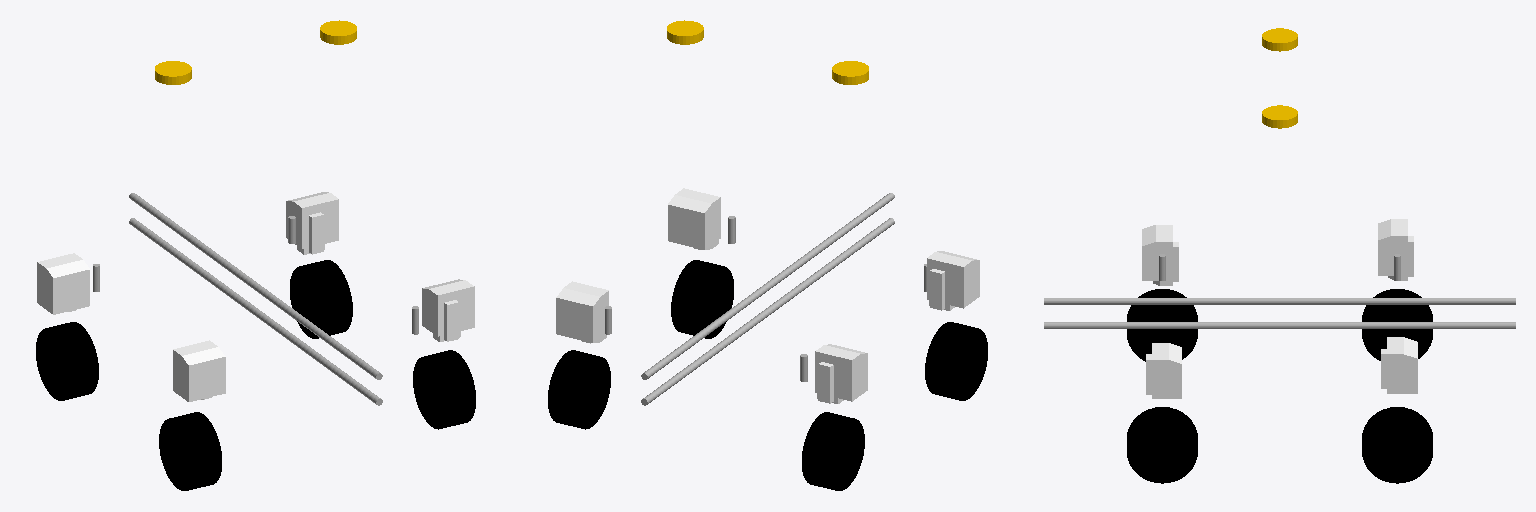
--- What the picture shows (computed from the rendered views, not written in the file) ---
The picture shows the robot from 3 angles, left to right: view 1: azimuth 30°, elevation 25°; view 2: azimuth 150°, elevation 25°; view 3: azimuth 270°, elevation 25°; orthographic projection.
Model thorvald_ii with 36 links and 35 joints (8 continuous, 27 fixed), rooted at /base_link, posed all joints at 0.
Visible links, largest first — view 1: /wheel3_link, /wheel1_link, /wheel0_link, /wheel2_link, /top1, /top3, /top0, /top2, /pipe0_1, /pipe0_2, /pipe1_1, /pipe1_2 (+2 smaller); view 2: /wheel0_link, /wheel2_link, /wheel3_link, /wheel1_link, /top1, /top3, /top0, /top2, /pipe1_1, /pipe1_2, /pipe0_1, /pipe0_2 (+2 smaller); view 3: /wheel1_link, /wheel2_link, /wheel0_link, /wheel3_link, /top2, /top1, /top0, /top3, /pipe0_1, /pipe0_2, /pipe1_1, /pipe1_2 (+2 smaller).
Link boxes in pixels (x1,y1,x2,y2): /wheel3_link: (36,322,98,400); /wheel1_link: (413,350,475,429); /wheel0_link: (159,412,221,490); /wheel2_link: (290,260,352,338); /top1: (422,279,474,341); /top3: (37,253,89,314); /top0: (173,340,225,401); /top2: (286,192,338,254); /pipe0_1: (253,308,382,405); /pipe0_2: (253,283,382,379); /pipe1_1: (129,218,256,313); /pipe1_2: (129,193,256,287); /wheel0_link: (925,322,987,400); /wheel2_link: (548,350,610,429); /wheel3_link: (802,412,864,490); /wheel1_link: (671,260,733,338); /top1: (668,188,720,249); /top3: (815,344,867,403); /top0: (927,251,979,310); /top2: (556,281,608,343); /pipe1_1: (641,308,770,405); /pipe1_2: (641,283,770,379); /pipe0_1: (766,218,894,313); /pipe0_2: (767,193,894,287); /wheel1_link: (1127,407,1197,483); /wheel2_link: (1362,407,1432,483); /wheel0_link: (1127,289,1197,361); /wheel3_link: (1362,289,1432,360); /top2: (1381,337,1417,393); /top1: (1146,343,1181,398); /top0: (1142,225,1178,285); /top3: (1378,219,1413,280); /pipe0_1: (1044,322,1279,328); /pipe0_2: (1044,298,1279,304); /pipe1_1: (1280,322,1515,328); /pipe1_2: (1280,298,1515,304).
Size in the robot's own frame: 1.86 by 2.64 by 2.12 metres.
4 mesh visuals loaded from 8 distinct referenced files (2 binary STL); not drawn: 17 (reference not matched to a file when rendering).

robot.urdf — thorvald_ii:
<?xml version="1.0" encoding="utf-8"?>

<robot name="thorvald_ii">
  <!-- <gazebo>
    <plugin filename="libthorvald_gazebo_plugins_synch.so" name="_thorvald_gazebo_plugins">
      <alwaysOn>true</alwaysOn>
      <updateRate>20</updateRate>
      <robotNamespace></robotNamespace>
      <commandTopic>base_state</commandTopic>
      <odometryTopic>odometry/gazebo</odometryTopic>
      <odometryFrame>/base_link</odometryFrame>
      <robotBaseFrame>/base_link</robotBaseFrame>
      <steering0>/steering0</steering0>
      <steering1>/steering1</steering1>
      <steering2>/steering2</steering2>
      <steering3>/steering3</steering3>
      <steering4>/steering4</steering4>
      <steering5>/steering5</steering5>
      <steering6>/steering6</steering6>
      <steering7>/steering7</steering7>
      <steering8>/steering8</steering8>
      <steering9>/steering9</steering9>
      <steering10>/steering10</steering10>
      <wheel0>/wheel0</wheel0>
      <wheel1>/wheel1</wheel1>
      <wheel2>/wheel2</wheel2>
      <wheel3>/wheel3</wheel3>
      <wheel4>/wheel4</wheel4>
      <wheel5>/wheel5</wheel5>
      <wheel6>/wheel6</wheel6>
      <wheel7>/wheel7</wheel7>
      <wheel8>/wheel8</wheel8>
      <wheel9>/wheel9</wheel9>
      <wheel10>/wheel10</wheel10>
    </plugin>
  </gazebo> -->
  <!--
    <alwaysOn>true</alwaysOn>
    <robotNamespace>thorvald_ii</robotNamespace>
    <steering2>steering2</steering2>
    <steering1>steering1</steering1>
    <steering3>steering3</steering3>
    <steering0>steering0</steering0>
    <publishOdometryMsg>true</publishOdometryMsg>
    <publishOdometryTf>true</publishOdometryTf>
    <robotBaseFrame>base_link</robotBaseFrame>
    <commandTopic>joint_commands</commandTopic>
    <odometryTopic>odom</odometryTopic>
    <odometryFrame>odom</odometryFrame>
    <updateRate>100.0</updateRate>
    <platform_width>0.570</platform_width>
    <wheel_radius>0.400</wheel_radius>
      <torque>5.0</torque>
    </plugin>
  </gazebo> -->
  <!-- MATERIAL DEFINITIONS -->
  <material name="white">
    <color rgba="1 1 1 1"/>
  </material>
  <material name="black">
    <color rgba="0 0 0 1"/>
  </material>
  <material name="red">
    <color rgba="1 0 0 1"/>
  </material>
  <material name="green">
    <color rgba="0 1 0 1"/>
  </material>
  <material name="alu">
    <color rgba="0.75 0.75 0.75 1"/>
  </material>
  <!-- CREATE ROBOT -->
  <!-- Create base link -->
  <link name="/base_link"/>
  <link name="/top0">
    <inertial>
      <mass value="10.21"/>
      <origin rpy="0 0 0" xyz="0 0 0"/>
      <inertia ixx="0.187252250833" ixy="0.0" ixz="0.0" iyy="0.209836770833" iyz="0.0" izz="0.119499541667"/>
    </inertial>
    <visual>
      <geometry>
        <mesh filename="package://loki_description/meshes/tower_modules/DUMMY-TOWER-M.stl"/>
        <box size="0.265 0.209 0.42"/>
      </geometry>
      <material name="white"/>
    </visual>
    <collision>
      <geometry>
        <mesh filename="package://loki_description/meshes/tower_modules/DUMMY-TOWER-M.stl"/>
        <box size="0.265 0.209 0.42"/>
      </geometry>
    </collision>
  </link>
  <joint name="/base_linktop0" type="fixed">
    <parent link="/base_link"/>
    <child link="/top0"/>
    <origin rpy="0 0 4.71238898038" xyz="-0.782 -0.658 0.65"/>
    <axis xyz="0 0 1"/>
  </joint>
  <link name="/leg0">
    <inertial>
      <mass value="15.64"/>
      <origin rpy="0 0 0" xyz="0 0 0"/>
      <inertia ixx="0.035581" ixy="0.0" ixz="0.0" iyy="0.035581" iyz="0.0" izz="0.012512"/>
    </inertial>
    <visual>
      <origin rpy="0 0 4.71238898038" xyz="0 0 0"/>
      <geometry>
        <mesh filename="package://loki_description/meshes/drive_modules/836745-5-DUMMY-RevA.stl"/>
        <cylinder length="-0.15" radius="0.04"/>
        <!--mesh filename="package://thorvald_base/meshes/top_chassis.dae"/-->
      </geometry>
      <material name="white"/>
    </visual>
    <collision>
      <origin rpy="0 0 4.71238898038" xyz="0 0 0"/>
      <geometry>
        <mesh filename="package://loki_description/meshes/drive_modules/836745-5-DUMMY-RevA.stl"/>
        <cylinder length="-0.15" radius="0.04"/>
      </geometry>
    </collision>
  </link>
  <joint name="/steering0" type="continuous">
    <parent link="/base_link"/>
    <child link="/leg0"/>
    <origin rpy="0 0 1.57079632679" xyz="-0.782 -0.658 0.2"/>
    <axis xyz="0 0 1"/>
    <dynamics damping="100" friction="10000"/>
  </joint>
  <transmission name="steering0_tran">
    <type>transmission_interface/SimpleTransmission</type>
    <joint name="/steering0">
      <hardwareInterface>hardware_interface/EffortJointInterface</hardwareInterface>
    </joint>
    <actuator name="steering0_motor">
      <hardwareInterface>hardware_interface/EffortJointInterface</hardwareInterface>
      <mechanicalReduction>1</mechanicalReduction>
    </actuator>
  </transmission>
  <link name="/wheel0_link">
    <inertial>
      <mass value="6.0"/>
      <origin rpy="0 0 0" xyz="0 0 0"/>
      <inertia ixx="0.0728" ixy="0.0" ixz="0.0" iyy="0.0728" iyz="0.0" izz="0.12"/>
    </inertial>
    <visual>
      <geometry>
        <cylinder length="0.16" radius="0.2"/>
        <!-- <box size = "0.00001 0.00001 0.00001"/> -->
      </geometry>
      <material name="black"/>
    </visual>
    <collision>
      <geometry>
        <cylinder length="0.16" radius="0.2"/>
        <!-- <box size = "0.00001 0.00001 0.00001"/> -->
      </geometry>
    </collision>
  </link>
  <gazebo reference="/wheel0_link">
    <material>Gazebo/Black</material>
    <mu1 value="2"/>
    <mu2 value="2"/>
  </gazebo>
  <joint name="/wheel0" type="continuous">
    <parent link="/leg0"/>
    <child link="/wheel0_link"/>
    <origin rpy="-1.57079632679 0 0" xyz="0 0 0"/>
    <axis xyz="0 0 1"/>
    <dynamics damping="100" friction="1000"/>
  </joint>
  <transmission name="wheel0_tran">
    <type>transmission_interface/SimpleTransmission</type>
    <joint name="/wheel0">
      <hardwareInterface>hardware_interface/EffortJointInterface</hardwareInterface>
    </joint>
    <actuator name="wheel0_motor">
      <hardwareInterface>hardware_interface/EffortJointInterface</hardwareInterface>
      <mechanicalReduction>1</mechanicalReduction>
    </actuator>
  </transmission>
  <!-- -->
  <!--
    <link name="$(arg tf_prefix)/rod_l_${wheel}">
      <visual>
        <geometry>
          <cylinder length="20" radius="0.01"/>
        </geometry>
	<material name="red" />
      </visual>
    </link>
      
    
    <joint name="$(arg tf_prefix)/rod_l_${wheel}" type="fixed">
      <parent link="$(arg tf_prefix)/${wheel}_link"/>
      <child link="$(arg tf_prefix)/rod_l_${wheel}"/>
      <origin xyz="0 0 10" rpy="0 0 0"/>
      <axis xyz="0 0 1"/>
    </joint>

    <link name="$(arg tf_prefix)/rod_r_${wheel}">
      <visual>
        <geometry>
          <cylinder length="20" radius="0.01"/>
        </geometry>
	<material name="green" />
      </visual>
    </link>
    
    <joint name="$(arg tf_prefix)/rod_r_${wheel}" type="fixed">
      <parent link="$(arg tf_prefix)/${wheel}_link"/>
      <child link="$(arg tf_prefix)/rod_r_${wheel}"/>
      <origin xyz="0 0 -10" rpy="0 0 0"/>
      <axis xyz="0 0 1"/>
    </joint>



    <link name="$(arg tf_prefix)/rod2_l_${wheel}">
      <visual>
        <geometry>
          <cylinder length="80" radius="0.01"/>
        </geometry>
	<material name="red" />
      </visual>
    </link>

    <joint name="$(arg tf_prefix)/rod2_l_${wheel}" type="fixed">
      <parent link="$(arg tf_prefix)/rod_l_${wheel}"/>
      <child link="$(arg tf_prefix)/rod2_l_${wheel}"/>
      <origin xyz="0 0 40" rpy="0 0 0"/>
      <axis xyz="0 0 1"/>
    </joint>

    <link name="$(arg tf_prefix)/rod2_r_${wheel}">
      <visual>
        <geometry>
          <cylinder length="80" radius="0.01"/>
        </geometry>
	<material name="green" />
      </visual>
    </link>
    
    <joint name="$(arg tf_prefix)/rod2_r_${wheel}" type="fixed">
      <parent link="$(arg tf_prefix)/rod_r_${wheel}"/>
      <child link="$(arg tf_prefix)/rod2_r_${wheel}"/>
      <origin xyz="0 0 -40" rpy="0 0 0"/>
      <axis xyz="0 0 1"/>
    </joint>
    -->
  <!-- -->
  <link name="/top1">
    <inertial>
      <mass value="10.21"/>
      <origin rpy="0 0 0" xyz="0 0 0"/>
      <inertia ixx="0.187252250833" ixy="0.0" ixz="0.0" iyy="0.209836770833" iyz="0.0" izz="0.119499541667"/>
    </inertial>
    <visual>
      <geometry>
        <mesh filename="package://loki_description/meshes/tower_modules/DUMMY-TOWER-MIRROR-M.stl"/>
        <box size="0.265 0.209 0.42"/>
      </geometry>
      <material name="white"/>
    </visual>
    <collision>
      <geometry>
        <mesh filename="package://loki_description/meshes/tower_modules/DUMMY-TOWER-MIRROR-M.stl"/>
        <box size="0.265 0.209 0.42"/>
      </geometry>
    </collision>
  </link>
  <joint name="/base_linktop1" type="fixed">
    <parent link="/base_link"/>
    <child link="/top1"/>
    <origin rpy="0 0 1.57079632679" xyz="0.782 -0.658 0.65"/>
    <axis xyz="0 0 1"/>
  </joint>
  <link name="/leg1">
    <inertial>
      <mass value="15.64"/>
      <origin rpy="0 0 0" xyz="0 0 0"/>
      <inertia ixx="0.035581" ixy="0.0" ixz="0.0" iyy="0.035581" iyz="0.0" izz="0.012512"/>
    </inertial>
    <visual>
      <origin rpy="0 0 1.57079632679" xyz="0 0 0"/>
      <geometry>
        <mesh filename="package://loki_description/meshes/drive_modules/836745-5-DUMMY-MIRROR-RevA.stl"/>
        <cylinder length="-0.15" radius="0.04"/>
        <!--mesh filename="package://thorvald_base/meshes/top_chassis.dae"/-->
      </geometry>
      <material name="white"/>
    </visual>
    <collision>
      <origin rpy="0 0 1.57079632679" xyz="0 0 0"/>
      <geometry>
        <mesh filename="package://loki_description/meshes/drive_modules/836745-5-DUMMY-MIRROR-RevA.stl"/>
        <cylinder length="-0.15" radius="0.04"/>
      </geometry>
    </collision>
  </link>
  <joint name="/steering1" type="continuous">
    <parent link="/base_link"/>
    <child link="/leg1"/>
    <origin rpy="0 0 1.57079632679" xyz="0.782 -0.658 0.2"/>
    <axis xyz="0 0 1"/>
    <dynamics damping="100" friction="10000"/>
  </joint>
  <transmission name="steering1_tran">
    <type>transmission_interface/SimpleTransmission</type>
    <joint name="/steering1">
      <hardwareInterface>hardware_interface/EffortJointInterface</hardwareInterface>
    </joint>
    <actuator name="steering1_motor">
      <hardwareInterface>hardware_interface/EffortJointInterface</hardwareInterface>
      <mechanicalReduction>1</mechanicalReduction>
    </actuator>
  </transmission>
  <link name="/wheel1_link">
    <inertial>
      <mass value="6.0"/>
      <origin rpy="0 0 0" xyz="0 0 0"/>
      <inertia ixx="0.0728" ixy="0.0" ixz="0.0" iyy="0.0728" iyz="0.0" izz="0.12"/>
    </inertial>
    <visual>
      <geometry>
        <cylinder length="0.16" radius="0.2"/>
        <!-- <box size = "0.00001 0.00001 0.00001"/> -->
      </geometry>
      <material name="black"/>
    </visual>
    <collision>
      <geometry>
        <cylinder length="0.16" radius="0.2"/>
        <!-- <box size = "0.00001 0.00001 0.00001"/> -->
      </geometry>
    </collision>
  </link>
  <gazebo reference="/wheel1_link">
    <material>Gazebo/Black</material>
    <mu1 value="2"/>
    <mu2 value="2"/>
  </gazebo>
  <joint name="/wheel1" type="continuous">
    <parent link="/leg1"/>
    <child link="/wheel1_link"/>
    <origin rpy="-1.57079632679 0 0" xyz="0 0 0"/>
    <axis xyz="0 0 1"/>
    <dynamics damping="100" friction="1000"/>
  </joint>
  <transmission name="wheel1_tran">
    <type>transmission_interface/SimpleTransmission</type>
    <joint name="/wheel1">
      <hardwareInterface>hardware_interface/EffortJointInterface</hardwareInterface>
    </joint>
    <actuator name="wheel1_motor">
      <hardwareInterface>hardware_interface/EffortJointInterface</hardwareInterface>
      <mechanicalReduction>1</mechanicalReduction>
    </actuator>
  </transmission>
  <!-- -->
  <!--
    <link name="$(arg tf_prefix)/rod_l_${wheel}">
      <visual>
        <geometry>
          <cylinder length="20" radius="0.01"/>
        </geometry>
	<material name="red" />
      </visual>
    </link>
      
    
    <joint name="$(arg tf_prefix)/rod_l_${wheel}" type="fixed">
      <parent link="$(arg tf_prefix)/${wheel}_link"/>
      <child link="$(arg tf_prefix)/rod_l_${wheel}"/>
      <origin xyz="0 0 10" rpy="0 0 0"/>
      <axis xyz="0 0 1"/>
    </joint>

    <link name="$(arg tf_prefix)/rod_r_${wheel}">
      <visual>
        <geometry>
          <cylinder length="20" radius="0.01"/>
        </geometry>
	<material name="green" />
      </visual>
    </link>
    
    <joint name="$(arg tf_prefix)/rod_r_${wheel}" type="fixed">
      <parent link="$(arg tf_prefix)/${wheel}_link"/>
      <child link="$(arg tf_prefix)/rod_r_${wheel}"/>
      <origin xyz="0 0 -10" rpy="0 0 0"/>
      <axis xyz="0 0 1"/>
    </joint>



    <link name="$(arg tf_prefix)/rod2_l_${wheel}">
      <visual>
        <geometry>
          <cylinder length="80" radius="0.01"/>
        </geometry>
	<material name="red" />
      </visual>
    </link>

    <joint name="$(arg tf_prefix)/rod2_l_${wheel}" type="fixed">
      <parent link="$(arg tf_prefix)/rod_l_${wheel}"/>
      <child link="$(arg tf_prefix)/rod2_l_${wheel}"/>
      <origin xyz="0 0 40" rpy="0 0 0"/>
      <axis xyz="0 0 1"/>
    </joint>

    <link name="$(arg tf_prefix)/rod2_r_${wheel}">
      <visual>
        <geometry>
          <cylinder length="80" radius="0.01"/>
        </geometry>
	<material name="green" />
      </visual>
    </link>
    
    <joint name="$(arg tf_prefix)/rod2_r_${wheel}" type="fixed">
      <parent link="$(arg tf_prefix)/rod_r_${wheel}"/>
      <child link="$(arg tf_prefix)/rod2_r_${wheel}"/>
      <origin xyz="0 0 -40" rpy="0 0 0"/>
      <axis xyz="0 0 1"/>
    </joint>
    -->
  <!-- -->
  <link name="/top2">
    <inertial>
      <mass value="10.21"/>
      <origin rpy="0 0 0" xyz="0 0 0"/>
      <inertia ixx="0.187252250833" ixy="0.0" ixz="0.0" iyy="0.209836770833" iyz="0.0" izz="0.119499541667"/>
    </inertial>
    <visual>
      <geometry>
        <mesh filename="package://loki_description/meshes/tower_modules/DUMMY-TOWER-M.stl"/>
        <box size="0.265 0.209 0.42"/>
      </geometry>
      <material name="white"/>
    </visual>
    <collision>
      <geometry>
        <mesh filename="package://loki_description/meshes/tower_modules/DUMMY-TOWER-M.stl"/>
        <box size="0.265 0.209 0.42"/>
      </geometry>
    </collision>
  </link>
  <joint name="/base_linktop2" type="fixed">
    <parent link="/base_link"/>
    <child link="/top2"/>
    <origin rpy="0 0 1.57079632679" xyz="0.782 0.658 0.65"/>
    <axis xyz="0 0 1"/>
  </joint>
  <link name="/leg2">
    <inertial>
      <mass value="15.64"/>
      <origin rpy="0 0 0" xyz="0 0 0"/>
      <inertia ixx="0.035581" ixy="0.0" ixz="0.0" iyy="0.035581" iyz="0.0" izz="0.012512"/>
    </inertial>
    <visual>
      <origin rpy="0 0 1.57079632679" xyz="0 0 0"/>
      <geometry>
        <mesh filename="package://loki_description/meshes/drive_modules/836745-5-DUMMY-RevA.stl"/>
        <cylinder length="-0.15" radius="0.04"/>
        <!--mesh filename="package://thorvald_base/meshes/top_chassis.dae"/-->
      </geometry>
      <material name="white"/>
    </visual>
    <collision>
      <origin rpy="0 0 1.57079632679" xyz="0 0 0"/>
      <geometry>
        <mesh filename="package://loki_description/meshes/drive_modules/836745-5-DUMMY-RevA.stl"/>
        <cylinder length="-0.15" radius="0.04"/>
      </geometry>
    </collision>
  </link>
  <joint name="/steering2" type="continuous">
    <parent link="/base_link"/>
    <child link="/leg2"/>
    <origin rpy="0 0 1.57079632679" xyz="0.782 0.658 0.2"/>
    <axis xyz="0 0 1"/>
    <dynamics damping="100" friction="10000"/>
  </joint>
  <transmission name="steering2_tran">
    <type>transmission_interface/SimpleTransmission</type>
    <joint name="/steering2">
      <hardwareInterface>hardware_interface/EffortJointInterface</hardwareInterface>
    </joint>
    <actuator name="steering2_motor">
      <hardwareInterface>hardware_interface/EffortJointInterface</hardwareInterface>
      <mechanicalReduction>1</mechanicalReduction>
    </actuator>
  </transmission>
  <link name="/wheel2_link">
    <inertial>
      <mass value="6.0"/>
      <origin rpy="0 0 0" xyz="0 0 0"/>
      <inertia ixx="0.0728" ixy="0.0" ixz="0.0" iyy="0.0728" iyz="0.0" izz="0.12"/>
    </inertial>
    <visual>
      <geometry>
        <cylinder length="0.16" radius="0.2"/>
        <!-- <box size = "0.00001 0.00001 0.00001"/> -->
      </geometry>
      <material name="black"/>
    </visual>
    <collision>
      <geometry>
        <cylinder length="0.16" radius="0.2"/>
        <!-- <box size = "0.00001 0.00001 0.00001"/> -->
      </geometry>
    </collision>
  </link>
  <gazebo reference="/wheel2_link">
    <material>Gazebo/Black</material>
    <mu1 value="2"/>
    <mu2 value="2"/>
  </gazebo>
  <joint name="/wheel2" type="continuous">
    <parent link="/leg2"/>
    <child link="/wheel2_link"/>
    <origin rpy="-1.57079632679 0 0" xyz="0 0 0"/>
    <axis xyz="0 0 1"/>
    <dynamics damping="100" friction="1000"/>
  </joint>
  <transmission name="wheel2_tran">
    <type>transmission_interface/SimpleTransmission</type>
    <joint name="/wheel2">
      <hardwareInterface>hardware_interface/EffortJointInterface</hardwareInterface>
    </joint>
    <actuator name="wheel2_motor">
      <hardwareInterface>hardware_interface/EffortJointInterface</hardwareInterface>
      <mechanicalReduction>1</mechanicalReduction>
    </actuator>
  </transmission>
  <!-- -->
  <!--
    <link name="$(arg tf_prefix)/rod_l_${wheel}">
      <visual>
        <geometry>
          <cylinder length="20" radius="0.01"/>
        </geometry>
	<material name="red" />
      </visual>
    </link>
      
    
    <joint name="$(arg tf_prefix)/rod_l_${wheel}" type="fixed">
      <parent link="$(arg tf_prefix)/${wheel}_link"/>
      <child link="$(arg tf_prefix)/rod_l_${wheel}"/>
      <origin xyz="0 0 10" rpy="0 0 0"/>
      <axis xyz="0 0 1"/>
    </joint>

    <link name="$(arg tf_prefix)/rod_r_${wheel}">
      <visual>
        <geometry>
          <cylinder length="20" radius="0.01"/>
        </geometry>
	<material name="green" />
      </visual>
    </link>
    
    <joint name="$(arg tf_prefix)/rod_r_${wheel}" type="fixed">
      <parent link="$(arg tf_prefix)/${wheel}_link"/>
      <child link="$(arg tf_prefix)/rod_r_${wheel}"/>
      <origin xyz="0 0 -10" rpy="0 0 0"/>
      <axis xyz="0 0 1"/>
    </joint>



    <link name="$(arg tf_prefix)/rod2_l_${wheel}">
      <visual>
        <geometry>
          <cylinder length="80" radius="0.01"/>
        </geometry>
	<material name="red" />
      </visual>
    </link>

    <joint name="$(arg tf_prefix)/rod2_l_${wheel}" type="fixed">
      <parent link="$(arg tf_prefix)/rod_l_${wheel}"/>
      <child link="$(arg tf_prefix)/rod2_l_${wheel}"/>
      <origin xyz="0 0 40" rpy="0 0 0"/>
      <axis xyz="0 0 1"/>
    </joint>

    <link name="$(arg tf_prefix)/rod2_r_${wheel}">
      <visual>
        <geometry>
          <cylinder length="80" radius="0.01"/>
        </geometry>
	<material name="green" />
      </visual>
    </link>
    
    <joint name="$(arg tf_prefix)/rod2_r_${wheel}" type="fixed">
      <parent link="$(arg tf_prefix)/rod_r_${wheel}"/>
      <child link="$(arg tf_prefix)/rod2_r_${wheel}"/>
      <origin xyz="0 0 -40" rpy="0 0 0"/>
      <axis xyz="0 0 1"/>
    </joint>
    -->
  <!-- -->
  <link name="/top3">
    <inertial>
      <mass value="10.21"/>
      <origin rpy="0 0 0" xyz="0 0 0"/>
      <inertia ixx="0.187252250833" ixy="0.0" ixz="0.0" iyy="0.209836770833" iyz="0.0" izz="0.119499541667"/>
    </inertial>
    <visual>
      <geometry>
        <mesh filename="package://loki_description/meshes/tower_modules/DUMMY-TOWER-MIRROR-M.stl"/>
        <box size="0.265 0.209 0.42"/>
      </geometry>
      <material name="white"/>
    </visual>
    <collision>
      <geometry>
        <mesh filename="package://loki_description/meshes/tower_modules/DUMMY-TOWER-MIRROR-M.stl"/>
        <box size="0.265 0.209 0.42"/>
      </geometry>
    </collision>
  </link>
  <joint name="/base_linktop3" type="fixed">
    <parent link="/base_link"/>
    <child link="/top3"/>
    <origin rpy="0 0 4.71238898038" xyz="-0.782 0.658 0.65"/>
    <axis xyz="0 0 1"/>
  </joint>
  <link name="/leg3">
    <inertial>
      <mass value="15.64"/>
      <origin rpy="0 0 0" xyz="0 0 0"/>
      <inertia ixx="0.035581" ixy="0.0" ixz="0.0" iyy="0.035581" iyz="0.0" izz="0.012512"/>
    </inertial>
    <visual>
      <origin rpy="0 0 4.71238898038" xyz="0 0 0"/>
      <geometry>
        <mesh filename="package://loki_description/meshes/drive_modules/836745-5-DUMMY-MIRROR-RevA.stl"/>
        <cylinder length="-0.15" radius="0.04"/>
        <!--mesh filename="package://thorvald_base/meshes/top_chassis.dae"/-->
      </geometry>
      <material name="white"/>
    </visual>
    <collision>
      <origin rpy="0 0 4.71238898038" xyz="0 0 0"/>
      <geometry>
        <mesh filename="package://loki_description/meshes/drive_modules/836745-5-DUMMY-MIRROR-RevA.stl"/>
        <cylinder length="-0.15" radius="0.04"/>
      </geometry>
    </collision>
  </link>
  <joint name="/steering3" type="continuous">
    <parent link="/base_link"/>
    <child link="/leg3"/>
    <origin rpy="0 0 1.57079632679" xyz="-0.782 0.658 0.2"/>
    <axis xyz="0 0 1"/>
    <dynamics damping="100" friction="10000"/>
  </joint>
  <transmission name="steering3_tran">
    <type>transmission_interface/SimpleTransmission</type>
    <joint name="/steering3">
      <hardwareInterface>hardware_interface/EffortJointInterface</hardwareInterface>
    </joint>
    <actuator name="steering3_motor">
      <hardwareInterface>hardware_interface/EffortJointInterface</hardwareInterface>
      <mechanicalReduction>1</mechanicalReduction>
    </actuator>
  </transmission>
  <link name="/wheel3_link">
    <inertial>
      <mass value="6.0"/>
      <origin rpy="0 0 0" xyz="0 0 0"/>
      <inertia ixx="0.0728" ixy="0.0" ixz="0.0" iyy="0.0728" iyz="0.0" izz="0.12"/>
    </inertial>
    <visual>
      <geometry>
        <cylinder length="0.16" radius="0.2"/>
        <!-- <box size = "0.00001 0.00001 0.00001"/> -->
      </geometry>
      <material name="black"/>
    </visual>
    <collision>
      <geometry>
        <cylinder length="0.16" radius="0.2"/>
        <!-- <box size = "0.00001 0.00001 0.00001"/> -->
      </geometry>
    </collision>
  </link>
  <gazebo reference="/wheel3_link">
    <material>Gazebo/Black</material>
    <mu1 value="2"/>
    <mu2 value="2"/>
  </gazebo>
  <joint name="/wheel3" type="continuous">
    <parent link="/leg3"/>
    <child link="/wheel3_link"/>
    <origin rpy="-1.57079632679 0 0" xyz="0 0 0"/>
    <axis xyz="0 0 1"/>
    <dynamics damping="100" friction="1000"/>
  </joint>
  <transmission name="wheel3_tran">
    <type>transmission_interface/SimpleTransmission</type>
    <joint name="/wheel3">
      <hardwareInterface>hardware_interface/EffortJointInterface</hardwareInterface>
    </joint>
    <actuator name="wheel3_motor">
      <hardwareInterface>hardware_interface/EffortJointInterface</hardwareInterface>
      <mechanicalReduction>1</mechanicalReduction>
    </actuator>
  </transmission>
  <!-- -->
  <!--
    <link name="$(arg tf_prefix)/rod_l_${wheel}">
      <visual>
        <geometry>
          <cylinder length="20" radius="0.01"/>
        </geometry>
	<material name="red" />
      </visual>
    </link>
      
    
    <joint name="$(arg tf_prefix)/rod_l_${wheel}" type="fixed">
      <parent link="$(arg tf_prefix)/${wheel}_link"/>
      <child link="$(arg tf_prefix)/rod_l_${wheel}"/>
      <origin xyz="0 0 10" rpy="0 0 0"/>
      <axis xyz="0 0 1"/>
    </joint>

    <link name="$(arg tf_prefix)/rod_r_${wheel}">
      <visual>
        <geometry>
          <cylinder length="20" radius="0.01"/>
        </geometry>
	<material name="green" />
      </visual>
    </link>
    
    <joint name="$(arg tf_prefix)/rod_r_${wheel}" type="fixed">
      <parent link="$(arg tf_prefix)/${wheel}_link"/>
      <child link="$(arg tf_prefix)/rod_r_${wheel}"/>
      <origin xyz="0 0 -10" rpy="0 0 0"/>
      <axis xyz="0 0 1"/>
    </joint>



    <link name="$(arg tf_prefix)/rod2_l_${wheel}">
      <visual>
        <geometry>
          <cylinder length="80" radius="0.01"/>
        </geometry>
	<material name="red" />
      </visual>
    </link>

    <joint name="$(arg tf_prefix)/rod2_l_${wheel}" type="fixed">
      <parent link="$(arg tf_prefix)/rod_l_${wheel}"/>
      <child link="$(arg tf_prefix)/rod2_l_${wheel}"/>
      <origin xyz="0 0 40" rpy="0 0 0"/>
      <axis xyz="0 0 1"/>
    </joint>

    <link name="$(arg tf_prefix)/rod2_r_${wheel}">
      <visual>
        <geometry>
          <cylinder length="80" radius="0.01"/>
        </geometry>
	<material name="green" />
      </visual>
    </link>
    
    <joint name="$(arg tf_prefix)/rod2_r_${wheel}" type="fixed">
      <parent link="$(arg tf_prefix)/rod_r_${wheel}"/>
      <child link="$(arg tf_prefix)/rod2_r_${wheel}"/>
      <origin xyz="0 0 -40" rpy="0 0 0"/>
      <axis xyz="0 0 1"/>
    </joint>
    -->
  <!-- -->
  <link name="/corner0_1">
    <inertial>
      <mass value="0.915"/>
      <origin rpy="0 0 0" xyz="0 0 0"/>
      <inertia ixx="0.001282525" ixy="0.0" ixz="0.0" iyy="0.001751005" iyz="0.0" izz="0.002989"/>
    </inertial>
    <visual>
      <geometry>
        <mesh filename="package://loki_description/meshes/clamps/DUMMY-T-BRACKET.stl"/>
        <box size="0.140 0.116 0.058"/>
      </geometry>
      <material name="alu"/>
    </visual>
    <collision>
      <geometry>
        <box size="0.140 0.116 0.058"/>
      </geometry>
    </collision>
  </link>
  <link name="/corner0_2">
    <inertial>
      <mass value="0.915"/>
      <origin rpy="0 0 0" xyz="0 0 0"/>
      <inertia ixx="0.001282525" ixy="0.0" ixz="0.0" iyy="0.001751005" iyz="0.0" izz="0.002989"/>
    </inertial>
    <visual>
      <geometry>
        <mesh filename="package://loki_description/meshes/clamps/DUMMY-T-BRACKET.stl"/>
        <box size="0.140 0.116 0.058"/>
      </geometry>
      <material name="alu"/>
    </visual>
    <collision>
      <geometry>
        <box size="0.140 0.116 0.058"/>
      </geometry>
    </collision>
  </link>
  <link name="/corner0">
    <inertial>
      <mass value="0.915"/>
      <origin rpy="0 0 0" xyz="0 0 0"/>
      <inertia ixx="0.001807125" ixy="0.0" ixz="0.0" iyy="0.001807125" iyz="0.0" izz="0.000183"/>
    </inertial>
    <visual>
      <geometry>
        <cylinder length="0.15" radius="0.02"/>
        <!-- <box size = "0.00001 0.00001 0.00001" /> -->
      </geometry>
      <material name="alu"/>
    </visual>
    <collision>
      <geometry>
        <cylinder length="0.15" radius="0.02"/>
      </geometry>
    </collision>
  </link>
  <joint name="/corner0_link_1" type="fixed">
    <parent link="/corner0"/>
    <child link="/corner0_1"/>
    <origin rpy="0 0 0" xyz="0.057 0 -0.075"/>
    <axis xyz="0 0 1"/>
  </joint>
  <joint name="/corner0_link_2" type="fixed">
    <parent link="/corner0"/>
    <child link="/corner0_2"/>
    <origin rpy="0 0 0" xyz="0.057 0 0.075"/>
    <axis xyz="0 0 1"/>
  </joint>
  <joint name="/corner0_link" type="fixed">
    <parent link="/base_link"/>
    <child link="/corner0"/>
    <origin rpy="0 0 4.71238898038" xyz="-0.603 -0.658 0.65"/>
    <axis xyz="0 0 1"/>
  </joint>
  <link name="/corner1_1">
    <inertial>
      <mass value="0.915"/>
      <origin rpy="0 0 0" xyz="0 0 0"/>
      <inertia ixx="0.001282525" ixy="0.0" ixz="0.0" iyy="0.001751005" iyz="0.0" izz="0.002989"/>
    </inertial>
    <visual>
      <geometry>
        <mesh filename="package://loki_description/meshes/clamps/DUMMY-T-BRACKET.stl"/>
        <box size="0.140 0.116 0.058"/>
      </geometry>
      <material name="alu"/>
    </visual>
    <collision>
      <geometry>
        <box size="0.140 0.116 0.058"/>
      </geometry>
    </collision>
  </link>
  <link name="/corner1_2">
    <inertial>
      <mass value="0.915"/>
      <origin rpy="0 0 0" xyz="0 0 0"/>
      <inertia ixx="0.001282525" ixy="0.0" ixz="0.0" iyy="0.001751005" iyz="0.0" izz="0.002989"/>
    </inertial>
    <visual>
      <geometry>
        <mesh filename="package://loki_description/meshes/clamps/DUMMY-T-BRACKET.stl"/>
        <box size="0.140 0.116 0.058"/>
      </geometry>
      <material name="alu"/>
    </visual>
    <collision>
      <geometry>
        <box size="0.140 0.116 0.058"/>
      </geometry>
    </collision>
  </link>
  <link name="/corner1">
    <inertial>
      <mass value="0.915"/>
      <origin rpy="0 0 0" xyz="0 0 0"/>
      <inertia ixx="0.001807125" ixy="0.0" ixz="0.0" iyy="0.001807125" iyz="0.0" izz="0.000183"/>
    </inertial>
    <visual>
      <geometry>
        <cylinder length="0.15" radius="0.02"/>
        <!-- <box size = "0.00001 0.00001 0.00001" /> -->
      </geometry>
      <material name="alu"/>
    </visual>
    <collision>
      <geometry>
        <cylinder length="0.15" radius="0.02"/>
      </geometry>
    </collision>
  </link>
  <joint name="/corner1_link_1" type="fixed">
    <parent link="/corner1"/>
    <child link="/corner1_1"/>
    <origin rpy="0 0 0" xyz="0.057 0 -0.075"/>
    <axis xyz="0 0 1"/>
  </joint>
  <joint name="/corner1_link_2" type="fixed">
    <parent link="/corner1"/>
    <child link="/corner1_2"/>
    <origin rpy="0 0 0" xyz="0.057 0 0.075"/>
    <axis xyz="0 0 1"/>
  </joint>
  <joint name="/corner1_link" type="fixed">
    <parent link="/base_link"/>
    <child link="/corner1"/>
    <origin rpy="0 0 1.57079632679" xyz="0.603 -0.658 0.65"/>
    <axis xyz="0 0 1"/>
  </joint>
  <link name="/corner2_1">
    <inertial>
      <mass value="0.915"/>
      <origin rpy="0 0 0" xyz="0 0 0"/>
      <inertia ixx="0.001282525" ixy="0.0" ixz="0.0" iyy="0.001751005" iyz="0.0" izz="0.002989"/>
    </inertial>
    <visual>
      <geometry>
        <mesh filename="package://loki_description/meshes/clamps/DUMMY-T-BRACKET.stl"/>
        <box size="0.140 0.116 0.058"/>
      </geometry>
      <material name="alu"/>
    </visual>
    <collision>
      <geometry>
        <box size="0.140 0.116 0.058"/>
      </geometry>
    </collision>
  </link>
  <link name="/corner2_2">
    <inertial>
      <mass value="0.915"/>
      <origin rpy="0 0 0" xyz="0 0 0"/>
      <inertia ixx="0.001282525" ixy="0.0" ixz="0.0" iyy="0.001751005" iyz="0.0" izz="0.002989"/>
    </inertial>
    <visual>
      <geometry>
        <mesh filename="package://loki_description/meshes/clamps/DUMMY-T-BRACKET.stl"/>
        <box size="0.140 0.116 0.058"/>
      </geometry>
      <material name="alu"/>
    </visual>
    <collision>
      <geometry>
        <box size="0.140 0.116 0.058"/>
      </geometry>
    </collision>
  </link>
  <link name="/corner2">
    <inertial>
      <mass value="0.915"/>
      <origin rpy="0 0 0" xyz="0 0 0"/>
      <inertia ixx="0.001807125" ixy="0.0" ixz="0.0" iyy="0.001807125" iyz="0.0" izz="0.000183"/>
    </inertial>
    <visual>
      <geometry>
        <cylinder length="0.15" radius="0.02"/>
        <!-- <box size = "0.00001 0.00001 0.00001" /> -->
      </geometry>
      <material name="alu"/>
    </visual>
    <collision>
      <geometry>
        <cylinder length="0.15" radius="0.02"/>
      </geometry>
    </collision>
  </link>
  <joint name="/corner2_link_1" type="fixed">
    <parent link="/corner2"/>
    <child link="/corner2_1"/>
    <origin rpy="0 0 0" xyz="0.057 0 -0.075"/>
    <axis xyz="0 0 1"/>
  </joint>
  <joint name="/corner2_link_2" type="fixed">
    <parent link="/corner2"/>
    <child link="/corner2_2"/>
    <origin rpy="0 0 0" xyz="0.057 0 0.075"/>
    <axis xyz="0 0 1"/>
  </joint>
  <joint name="/corner2_link" type="fixed">
    <parent link="/base_link"/>
    <child link="/corner2"/>
    <origin rpy="0 0 1.57079632679" xyz="0.603 0.658 0.65"/>
    <axis xyz="0 0 1"/>
  </joint>
  <link name="/corner3_1">
    <inertial>
      <mass value="0.915"/>
      <origin rpy="0 0 0" xyz="0 0 0"/>
      <inertia ixx="0.001282525" ixy="0.0" ixz="0.0" iyy="0.001751005" iyz="0.0" izz="0.002989"/>
    </inertial>
    <visual>
      <geometry>
        <mesh filename="package://loki_description/meshes/clamps/DUMMY-T-BRACKET.stl"/>
        <box size="0.140 0.116 0.058"/>
      </geometry>
      <material name="alu"/>
    </visual>
    <collision>
      <geometry>
        <box size="0.140 0.116 0.058"/>
      </geometry>
    </collision>
  </link>
  <link name="/corner3_2">
    <inertial>
      <mass value="0.915"/>
      <origin rpy="0 0 0" xyz="0 0 0"/>
      <inertia ixx="0.001282525" ixy="0.0" ixz="0.0" iyy="0.001751005" iyz="0.0" izz="0.002989"/>
    </inertial>
    <visual>
      <geometry>
        <mesh filename="package://loki_description/meshes/clamps/DUMMY-T-BRACKET.stl"/>
        <box size="0.140 0.116 0.058"/>
      </geometry>
      <material name="alu"/>
    </visual>
    <collision>
      <geometry>
        <box size="0.140 0.116 0.058"/>
      </geometry>
    </collision>
  </link>
  <link name="/corner3">
    <inertial>
      <mass value="0.915"/>
      <origin rpy="0 0 0" xyz="0 0 0"/>
      <inertia ixx="0.001807125" ixy="0.0" ixz="0.0" iyy="0.001807125" iyz="0.0" izz="0.000183"/>
    </inertial>
    <visual>
      <geometry>
        <cylinder length="0.15" radius="0.02"/>
        <!-- <box size = "0.00001 0.00001 0.00001" /> -->
      </geometry>
      <material name="alu"/>
    </visual>
    <collision>
      <geometry>
        <cylinder length="0.15" radius="0.02"/>
      </geometry>
    </collision>
  </link>
  <joint name="/corner3_link_1" type="fixed">
    <parent link="/corner3"/>
    <child link="/corner3_1"/>
    <origin rpy="0 0 0" xyz="0.057 0 -0.075"/>
    <axis xyz="0 0 1"/>
  </joint>
  <joint name="/corner3_link_2" type="fixed">
    <parent link="/corner3"/>
    <child link="/corner3_2"/>
    <origin rpy="0 0 0" xyz="0.057 0 0.075"/>
    <axis xyz="0 0 1"/>
  </joint>
  <joint name="/corner3_link" type="fixed">
    <parent link="/base_link"/>
    <child link="/corner3"/>
    <origin rpy="0 0 4.71238898038" xyz="-0.603 0.658 0.65"/>
    <axis xyz="0 0 1"/>
  </joint>
  <link name="/pipe0_1">
    <inertial>
      <mass value="1"/>
      <origin rpy="0 0 0" xyz="0 0 0"/>
      <inertia ixx="0.1453" ixy="0.0" ixz="0.0" iyy="0.1453" iyz="0.0" izz="0.0002"/>
    </inertial>
    <visual>
      <geometry>
        <cylinder length="1.32" radius="0.02"/>
      </geometry>
      <material name="alu"/>
    </visual>
    <collision>
      <geometry>
        <cylinder length="1.32" radius="0.02"/>
      </geometry>
    </collision>
  </link>
  <link name="/pipe0_2">
    <inertial>
      <mass value="1"/>
      <origin rpy="0 0 0" xyz="0 0 0"/>
      <inertia ixx="0.1453" ixy="0.0" ixz="0.0" iyy="0.1453" iyz="0.0" izz="0.0002"/>
    </inertial>
    <visual>
      <geometry>
        <cylinder length="1.32" radius="0.02"/>
      </geometry>
      <material name="alu"/>
    </visual>
    <collision>
      <geometry>
        <cylinder length="1.32" radius="0.02"/>
      </geometry>
    </collision>
  </link>
  <joint name="/pipe0_link_1" type="fixed">
    <parent link="/base_link"/>
    <child link="/pipe0_1"/>
    <origin rpy="1.57079632679 0 0" xyz="0.0 -0.658 0.575"/>
    <axis xyz="0 0 1"/>
  </joint>
  <joint name="/pipe0_link_2" type="fixed">
    <parent link="/base_link"/>
    <child link="/pipe0_2"/>
    <origin rpy="1.57079632679 0 0" xyz="0.0 -0.658 0.725"/>
    <axis xyz="0 0 1"/>
  </joint>
  <link name="/pipe1_1">
    <inertial>
      <mass value="1"/>
      <origin rpy="0 0 0" xyz="0 0 0"/>
      <inertia ixx="0.1453" ixy="0.0" ixz="0.0" iyy="0.1453" iyz="0.0" izz="0.0002"/>
    </inertial>
    <visual>
      <geometry>
        <cylinder length="1.32" radius="0.02"/>
      </geometry>
      <material name="alu"/>
    </visual>
    <collision>
      <geometry>
        <cylinder length="1.32" radius="0.02"/>
      </geometry>
    </collision>
  </link>
  <link name="/pipe1_2">
    <inertial>
      <mass value="1"/>
      <origin rpy="0 0 0" xyz="0 0 0"/>
      <inertia ixx="0.1453" ixy="0.0" ixz="0.0" iyy="0.1453" iyz="0.0" izz="0.0002"/>
    </inertial>
    <visual>
      <geometry>
        <cylinder length="1.32" radius="0.02"/>
      </geometry>
      <material name="alu"/>
    </visual>
    <collision>
      <geometry>
        <cylinder length="1.32" radius="0.02"/>
      </geometry>
    </collision>
  </link>
  <joint name="/pipe1_link_1" type="fixed">
    <parent link="/base_link"/>
    <child link="/pipe1_1"/>
    <origin rpy="1.57079632679 0 0" xyz="0.0 0.658 0.575"/>
    <axis xyz="0 0 1"/>
  </joint>
  <joint name="/pipe1_link_2" type="fixed">
    <parent link="/base_link"/>
    <child link="/pipe1_2"/>
    <origin rpy="1.57079632679 0 0" xyz="0.0 0.658 0.725"/>
    <axis xyz="0 0 1"/>
  </joint>
  <link name="/bat0">
    <inertial>
      <mass value="12.88"/>
      <origin rpy="0 0 0" xyz="0 0 -0.25"/>
      <inertia ixx="0.342507106667" ixy="0.0" ixz="0.0" iyy="0.579579606667" iyz="0.0" izz="0.602998666667"/>
    </inertial>
    <visual>
      <origin rpy="0 0 0" xyz="0 0 0"/>
      <geometry>
        <mesh filename="package://loki_description/meshes/bat_enc_modules/836586-1-DUMMY-RevA.stl"/>
        <box size="0.530 0.245 0.509"/>
      </geometry>
      <material name="white"/>
    </visual>
    <collision>
      <geometry>
        <mesh filename="package://loki_description/meshes/bat_enc_modules/836586-1-DUMMY-RevA.stl"/>
        <box size="0.530 0.245 0.509"/>
      </geometry>
    </collision>
  </link>
  <joint name="/bat0_joint" type="fixed">
    <parent link="/base_link"/>
    <child link="/bat0"/>
    <origin rpy="0 0 4.71238898038" xyz="0.0 0.658 0.72"/>
    <axis xyz="0 0 1"/>
  </joint>
  <link name="/bat1">
    <inertial>
      <mass value="12.88"/>
      <origin rpy="0 0 0" xyz="0 0 -0.25"/>
      <inertia ixx="0.342507106667" ixy="0.0" ixz="0.0" iyy="0.579579606667" iyz="0.0" izz="0.602998666667"/>
    </inertial>
    <visual>
      <origin rpy="0 0 0" xyz="0 0 0"/>
      <geometry>
        <mesh filename="package://loki_description/meshes/bat_enc_modules/836586-1-DUMMY-RevA.stl"/>
        <box size="0.530 0.245 0.509"/>
      </geometry>
      <material name="white"/>
    </visual>
    <collision>
      <geometry>
        <mesh filename="package://loki_description/meshes/bat_enc_modules/836586-1-DUMMY-RevA.stl"/>
        <box size="0.530 0.245 0.509"/>
      </geometry>
    </collision>
  </link>
  <joint name="/bat1_joint" type="fixed">
    <parent link="/base_link"/>
    <child link="/bat1"/>
    <origin rpy="0 0 1.57079632679" xyz="0.0 -0.658 0.72"/>
    <axis xyz="0 0 1"/>
  </joint>
  <link name="uvtun_frame">
    <inertial>
      <origin rpy="0 0 0" xyz="0 0 0"/>
      <mass value="1"/>
      <inertia ixx="1.0" ixy="0.0" ixz="0.0" iyy="1.0" iyz="0.0" izz="1.0"/>
    </inertial>
    <visual>
      <geometry>
        <mesh filename="package://loki_description/meshes/uv_frame/uv_arc.STL"/>
      </geometry>
      <material name="whiter">
        <color rgba="1 1 1 1"/>
      </material>
    </visual>
  </link>
  <joint name="/base_uvtun_frame" type="fixed">
    <parent link="/base_link"/>
    <child link="uvtun_frame"/>
    <origin rpy="1.57079632679 0 3.14159265359" xyz="-0.525 -0.66 0.5"/>
  </joint>
  <!-- GPS Sensors-->
  <link name="gps_front">
    <visual>
      <material name="sept_color">
        <color rgba="1 0.8 0 1"/>
      </material>
      <geometry>
        <cylinder length="0.05" radius="0.10"/>
      </geometry>
    </visual>
  </link>
  <link name="gps_back">
    <visual>
      <material name="sept_color">
        <color rgba="1 0.8 0 1"/>
      </material>
      <geometry>
        <cylinder length="0.05" radius="0.10"/>
      </geometry>
    </visual>
  </link>
  <joint name="/gps_back" type="fixed">
    <parent link="/base_link"/>
    <child link="gps_back"/>
    <origin rpy="0 0 1.57079632679" xyz="-0.51 0 2.1"/>
  </joint>
  <joint name="/gps_front" type="fixed">
    <parent link="/base_link"/>
    <child link="gps_front"/>
    <origin rpy="0 0 1.57079632679" xyz="0.51 0 2.1"/>
  </joint>
  <gazebo>
    <plugin filename="libhector_gazebo_ros_gps.so" name="gazebo_ros_gps">
      <alwaysOn>1</alwaysOn>
      <updateRate>4.0</updateRate>
      <bodyName>gps_front</bodyName>
      <frameId>front_gps</frameId>
      <topicName>gps_front/fix</topicName>
      <velocityTopicName>gps_front/fix_velocity</velocityTopicName>
      <drift>5.0 5.0 5.0</drift>
      <gaussianNoise>0.1 0.1 0.1</gaussianNoise>
      <velocityDrift>0 0 0</velocityDrift>
      <velocityGaussianNoise>0.1 0.1 0.1</velocityGaussianNoise>
    </plugin>
  </gazebo>
  <gazebo>
    <plugin filename="libhector_gazebo_ros_gps.so" name="gazebo_ros_gps">
      <alwaysOn>1</alwaysOn>
      <updateRate>4.0</updateRate>
      <bodyName>gps_back</bodyName>
      <frameId>back_gps</frameId>
      <topicName>gps_back/fix</topicName>
      <velocityTopicName>gps_back/fix_velocity</velocityTopicName>
      <drift>5.0 5.0 5.0</drift>
      <gaussianNoise>0.1 0.1 0.1</gaussianNoise>
      <velocityDrift>0 0 0</velocityDrift>
      <velocityGaussianNoise>0.1 0.1 0.1</velocityGaussianNoise>
    </plugin>
  </gazebo>
  <!--Laser Sensors-->
  <link name="/hokuyo_front">
    <collision>
      <origin rpy="0 0 0" xyz="0 0 0"/>
      <geometry>
        <box size="0.1 0.1 0.1"/>
      </geometry>
    </collision>
    <visual>
      <origin rpy="0 0 0" xyz="0 0 0"/>
      <geometry>
        <mesh filename="package://loki_description/meshes/hokuyo/hokuyo.dae"/>
      </geometry>
    </visual>
    <inertial>
      <mass value="1e-5"/>
      <origin rpy="0 0 0" xyz="0 0 0"/>
      <inertia ixx="1e-6" ixy="0" ixz="0" iyy="1e-6" iyz="0" izz="1e-6"/>
    </inertial>
  </link>
  <link name="/hokuyo_back">
    <collision>
      <origin rpy="0 0 0" xyz="0 0 0"/>
      <geometry>
        <box size="0.1 0.1 0.1"/>
      </geometry>
    </collision>
    <visual>
      <origin rpy="0 0 0" xyz="0 0 0"/>
      <geometry>
        <mesh filename="package://loki_description/meshes/hokuyo/hokuyo.dae"/>
      </geometry>
    </visual>
    <inertial>
      <mass value="1e-5"/>
      <origin rpy="0 0 0" xyz="0 0 0"/>
      <inertia ixx="1e-6" ixy="0" ixz="0" iyy="1e-6" iyz="0" izz="1e-6"/>
    </inertial>
  </link>
  <joint name="base_sens_hokuyo_front" type="fixed">
    <parent link="/top1"/>
    <child link="/hokuyo_front"/>
    <axis xyz="0 1 0"/>
    <origin rpy="0.0 0.0 0.79" xyz="0.172 -0.152 -0.034"/>
  </joint>
  <joint name="base_sens_hokuyo_back" type="fixed">
    <parent link="/top3"/>
    <child link="/hokuyo_back"/>
    <axis xyz="0 1 0"/>
    <origin rpy="0.0 0.0 0.79" xyz="0.172 -0.152 -0.034"/>
  </joint>
  <gazebo reference="/hokuyo_front">
    <sensor name="_head_hokuyo_front_sensor" type="ray">
      <pose>0 0 0 0 0 0</pose>
      <visualize>true</visualize>
      <update_rate>40</update_rate>
      <always_on>1</always_on>
      <ray>
        <scan>
          <horizontal>
            <samples>720</samples>
            <resolution>1</resolution>
            <min_angle>-2.18</min_angle>
            <max_angle>2.36</max_angle>
          </horizontal>
        </scan>
        <range>
          <min>0.10</min>
          <max>30.0</max>
          <resolution>0.01</resolution>
        </range>
        <noise>
          <type>gaussian</type>
          <!-- Noise parameters based on published spec for Hokuyo laser
               achieving "+-30mm" accuracy at range < 10m.  A mean of 0.0m and
               stddev of 0.01m will put 99.7% of samples within 0.03m of the true
               reading. -->
          <mean>0.0</mean>
          <stddev>0.01</stddev>
        </noise>
      </ray>
      <plugin filename="libgazebo_ros_laser.so" name="_hokuyo_front_node">
        <topicName>scan_front</topicName>
        <frameName>hokuyo_front</frameName>
      </plugin>
    </sensor>
  </gazebo>
  <gazebo reference="/hokuyo_back">
    <sensor name="_head_hokuyo_back_sensor" type="ray">
      <pose>0 0 0 0 0 0</pose>
      <visualize>true</visualize>
      <update_rate>40</update_rate>
      <always_on>1</always_on>
      <ray>
        <scan>
          <horizontal>
            <samples>720</samples>
            <resolution>1</resolution>
            <min_angle>-2.18</min_angle>
            <max_angle>2.36</max_angle>
          </horizontal>
        </scan>
        <range>
          <min>0.10</min>
          <max>30.0</max>
          <resolution>0.01</resolution>
        </range>
        <noise>
          <type>gaussian</type>
          <!-- Noise parameters based on published spec for Hokuyo laser
               achieving "+-30mm" accuracy at range < 10m.  A mean of 0.0m and
               stddev of 0.01m will put 99.7% of samples within 0.03m of the true
               reading. -->
          <mean>0.0</mean>
          <stddev>0.01</stddev>
        </noise>
      </ray>
      <plugin filename="libgazebo_ros_laser.so" name="_hokuyo_back_node">
        <topicName>scan_back</topicName>
        <frameName>hokuyo_back</frameName>
      </plugin>
    </sensor>
  </gazebo>
  <gazebo>
    <plugin filename="libgazebo_ros_control.so" name="gazebo_ros_control">
      <!--<robotNamespace>/${robot_name}</robotNamespace>-->
    </plugin>
  </gazebo>

</robot>
